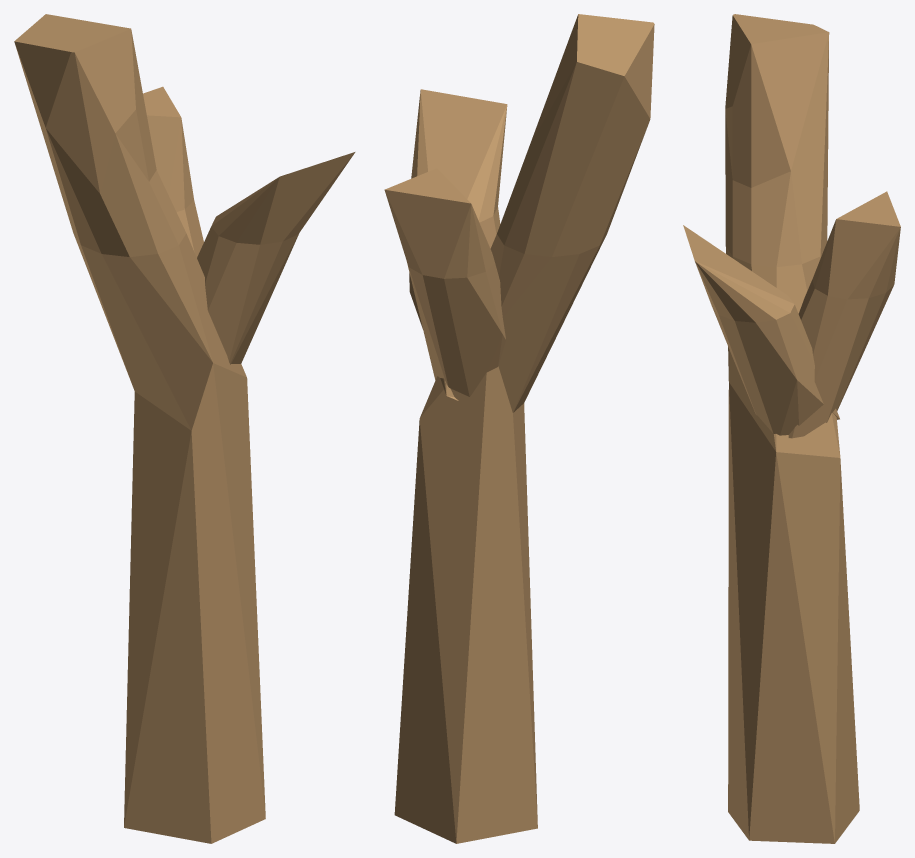
The model's file is DeathTree 1.fbx.
3 views of the same model, side by side, from view 1: azimuth 30°, elevation 25°; view 2: azimuth 150°, elevation 25°; view 3: azimuth 270°, elevation 25° (orthographic). The views are drawn at different scales.
Parts seen in each view (by area): view 1: DeathTree; view 2: DeathTree; view 3: DeathTree.
Boxes of the visible parts, x1=… form: DeathTree: x1=14, y1=14, x2=355, y2=843; DeathTree: x1=384, y1=14, x2=654, y2=843; DeathTree: x1=683, y1=14, x2=900, y2=843.
Size of the model in its own units: 254 by 724 by 194.
